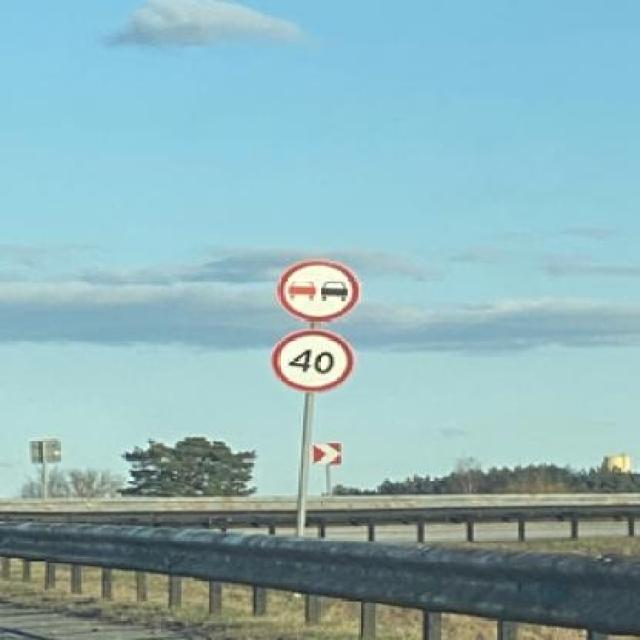forb_speed_over_40: (273, 327, 353, 396)
